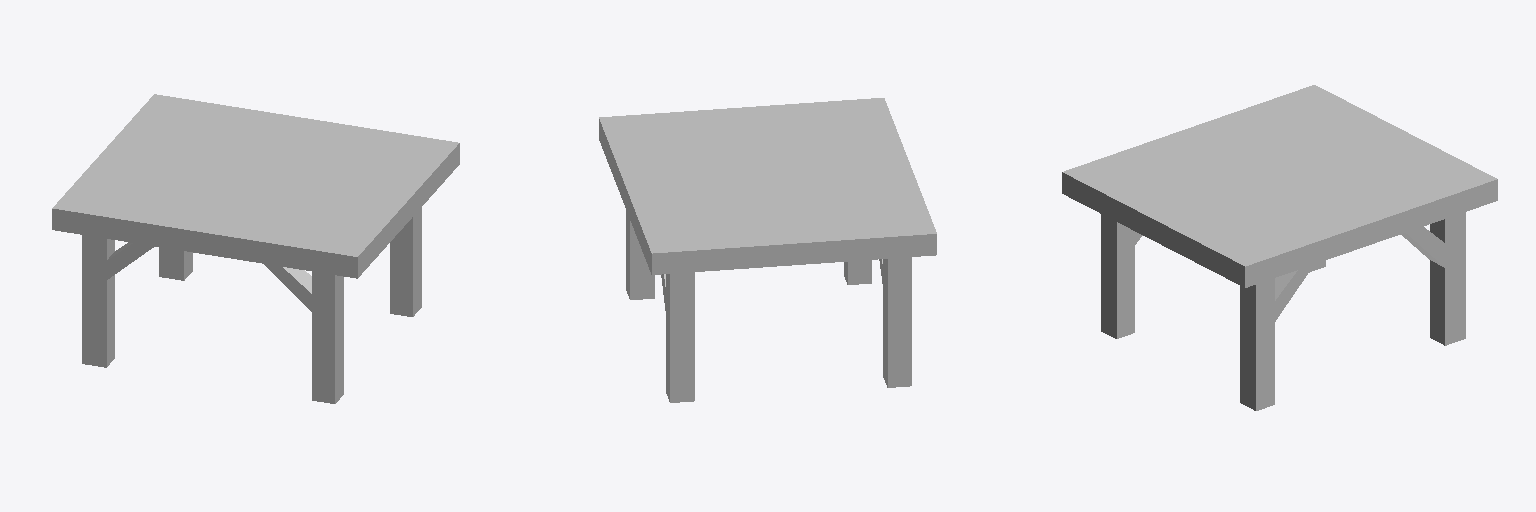
The model's file is table3.obj.
3 renders of one model, left to right at view 1: azimuth 30°, elevation 25°; view 2: azimuth 150°, elevation 25°; view 3: azimuth 270°, elevation 25°, orthographic.
Visible parts, largest first — view 1: table2 furniture_grp; view 2: table2 furniture_grp; view 3: table2 furniture_grp.
Boxes of the visible parts, <box> form: table2 furniture_grp: <box>52,94,459,403</box>; table2 furniture_grp: <box>599,98,936,402</box>; table2 furniture_grp: <box>1062,85,1497,410</box>.
Bounding box in the file's own units: 320 × 132 × 323.